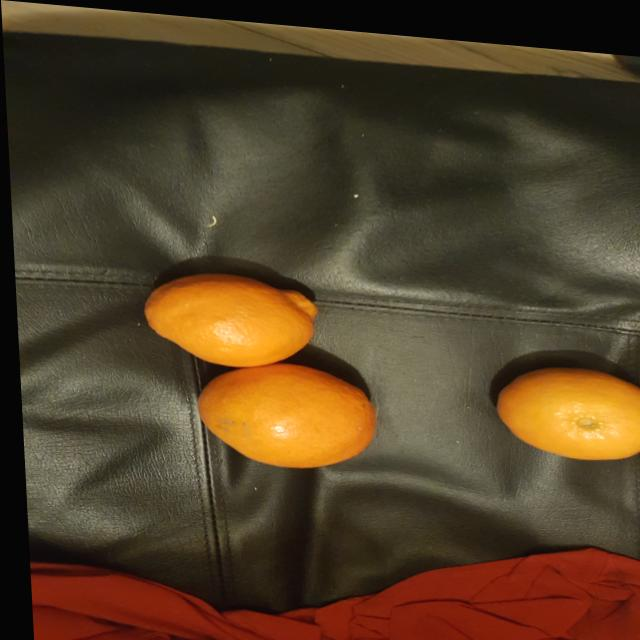Orange: (191, 357, 370, 463), (139, 269, 314, 364), (489, 355, 640, 451)
